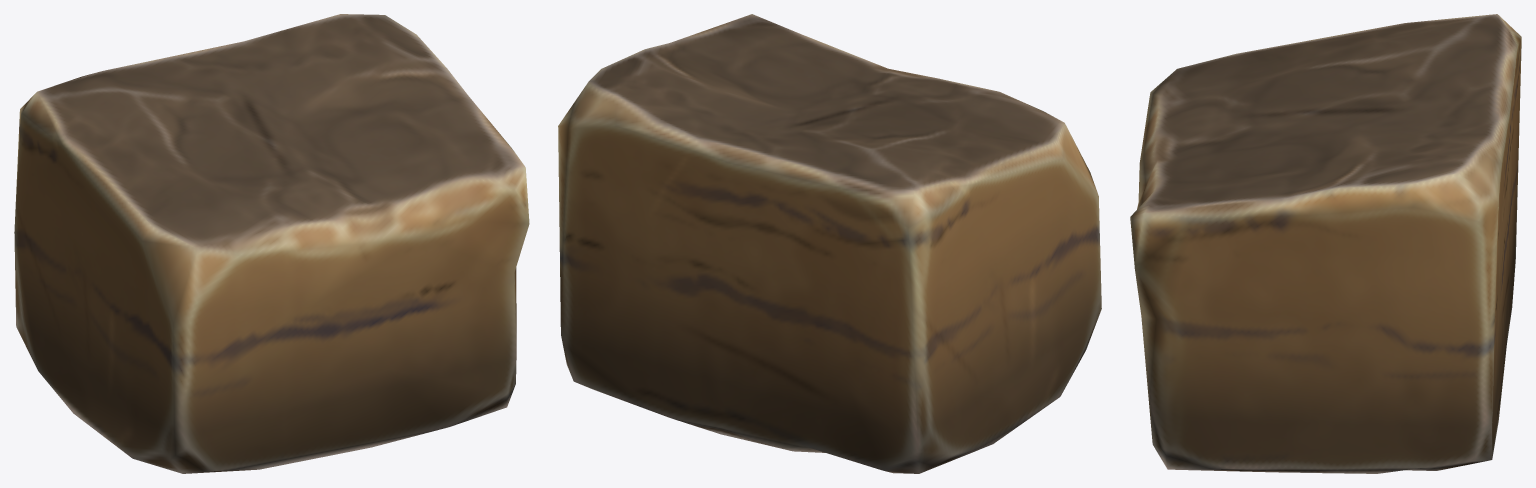
Rendered from SM_Gem_EyeOfTiger_001.fbx.
3 views of the same model, side by side, from view 1: azimuth 30°, elevation 25°; view 2: azimuth 150°, elevation 25°; view 3: azimuth 270°, elevation 25° (orthographic). The views are drawn at different scales.
Visible parts, largest first — view 1: SM_Gem_EyeOfTiger_001; view 2: SM_Gem_EyeOfTiger_001; view 3: SM_Gem_EyeOfTiger_001.
Part boxes in pixels (x1,y1,x2,y2): SM_Gem_EyeOfTiger_001: [14, 14, 529, 473]; SM_Gem_EyeOfTiger_001: [558, 14, 1101, 473]; SM_Gem_EyeOfTiger_001: [1130, 14, 1521, 473].
Size of the model in its own units: 32.69 by 25.3 by 28.47.
